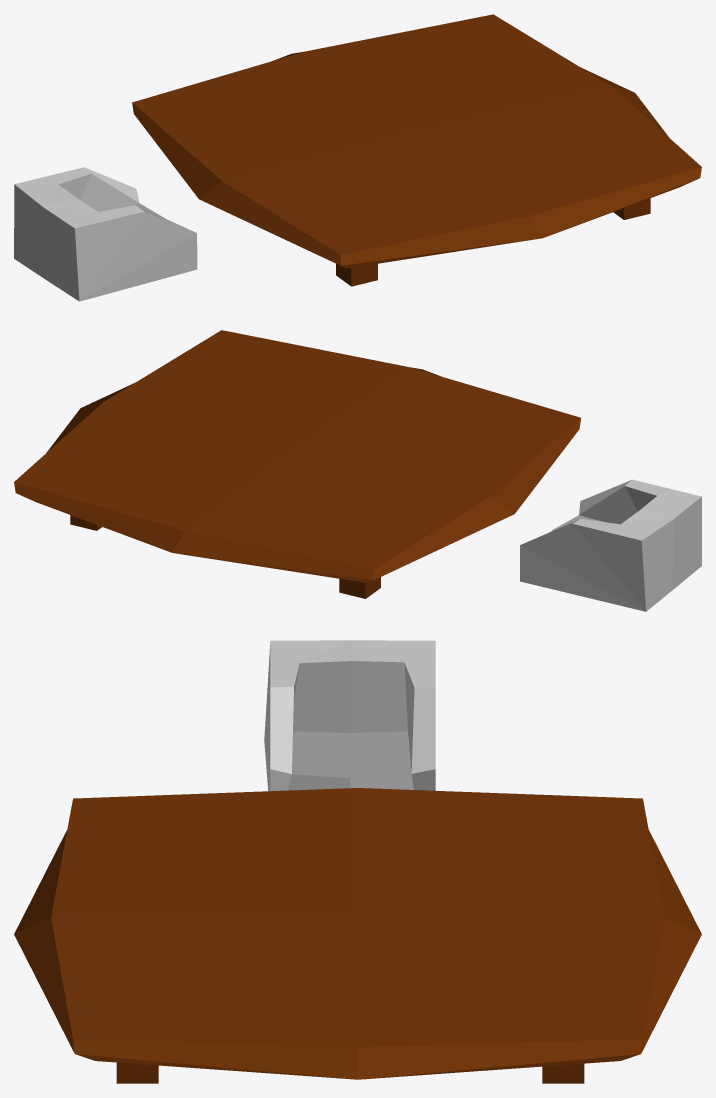
The model's file is hall.glb.
The picture shows the model from 3 angles, top to bottom: view 1: azimuth 30°, elevation 25°; view 2: azimuth 150°, elevation 25°; view 3: azimuth 270°, elevation 25°; orthographic projection. The views are drawn at different scales.
Visible parts, largest first — view 1: Cube.001, Plane.001; view 2: Cube.001, Plane.001; view 3: Cube.001, Plane.001.
Boxes of the visible parts, <box> form: Cube.001: <box>132,14,701,286</box>; Plane.001: <box>14,167,197,301</box>; Cube.001: <box>14,330,580,598</box>; Plane.001: <box>520,479,701,611</box>; Cube.001: <box>14,788,701,1083</box>; Plane.001: <box>264,640,435,791</box>.
Size of what is drawn, in the model's own units: 13.83 by 1.64 by 10.14.
